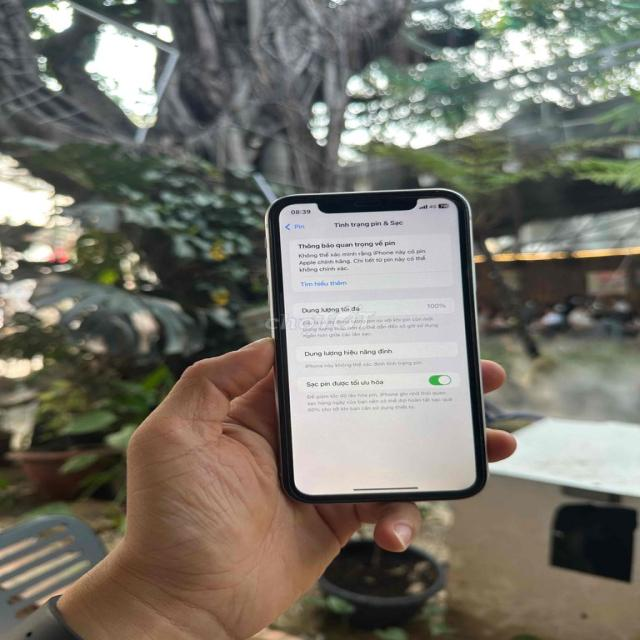gen_x_xs: (266, 188, 487, 502)
